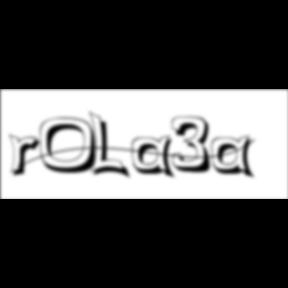3: (173, 116, 219, 176)
L: (89, 110, 133, 182)
O: (40, 117, 104, 176)
a: (132, 135, 180, 182), (211, 135, 259, 182)
r: (9, 134, 47, 180)
